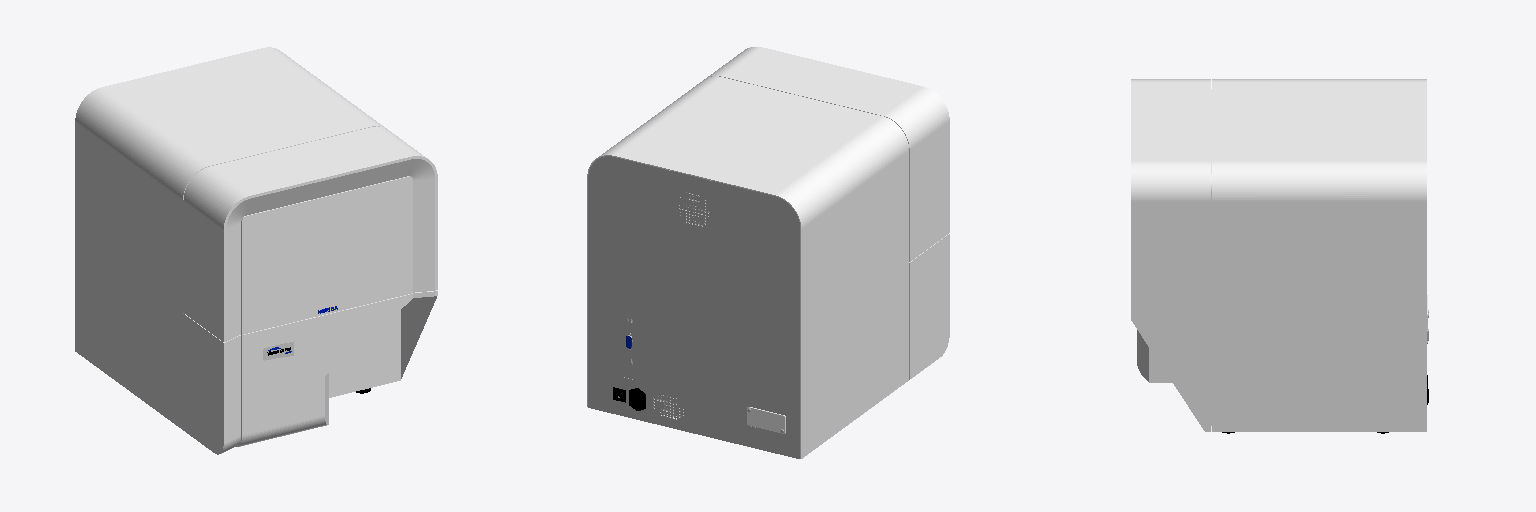
File: horiba_yumizen_500.obj
3 views of the same model, side by side, from view 1: azimuth 30°, elevation 25°; view 2: azimuth 150°, elevation 25°; view 3: azimuth 270°, elevation 25° (orthographic).
Parts seen in each view (by area): view 1: object39.004; view 2: object39.004, object56.004, object43.004, object49.004; view 3: object39.004.
Part boxes in pixels (left/top/right/bottom): object39.004: left=75, top=47, right=437, bottom=454; object39.004: left=587, top=47, right=949, bottom=458; object56.004: left=588, top=156, right=799, bottom=458; object43.004: left=747, top=407, right=785, bottom=433; object49.004: left=624, top=297, right=633, bottom=379; object39.004: left=1131, top=79, right=1426, bottom=431.
Bounding box in the file's own units: 0.4 × 0.48 × 0.4835.